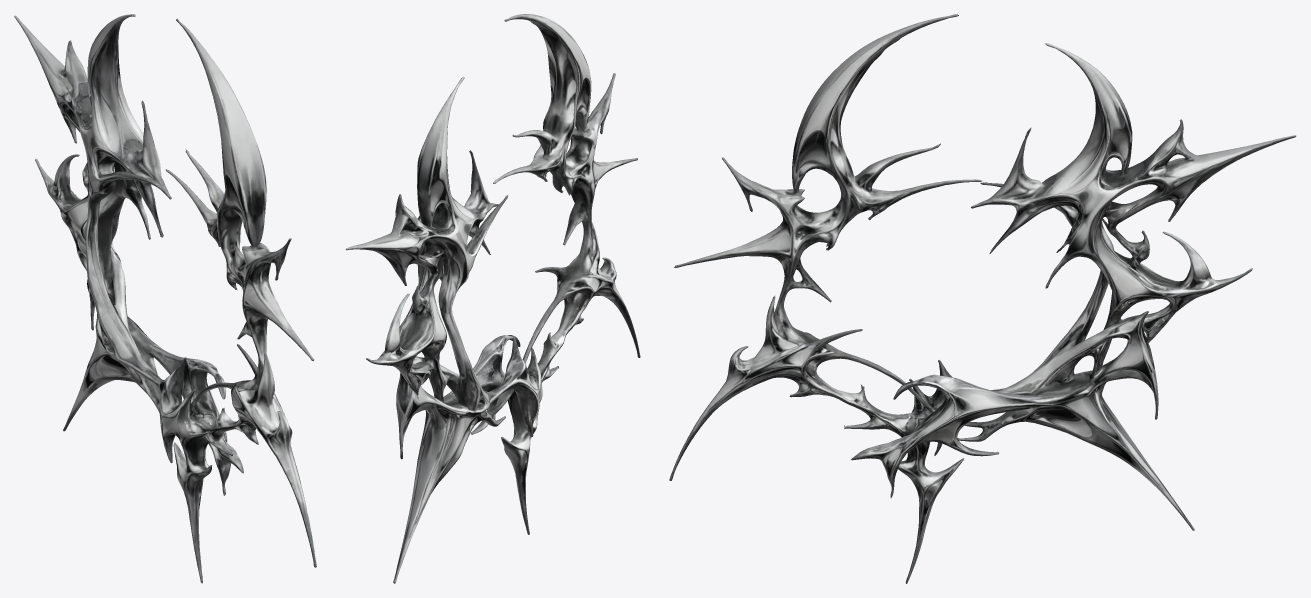
The model's file is hero-sigil.glb.
3 renders of one model, left to right at view 1: azimuth 30°, elevation 25°; view 2: azimuth 150°, elevation 25°; view 3: azimuth 270°, elevation 25°, orthographic. The views are drawn at different scales.
Parts seen in each view (by area): view 1: tripo_node_61169f99-24d7-470d-8869-7e988d8b8f6d; view 2: tripo_node_61169f99-24d7-470d-8869-7e988d8b8f6d; view 3: tripo_node_61169f99-24d7-470d-8869-7e988d8b8f6d.
Boxes of the visible parts, x1,y1,x2,y2 form: tripo_node_61169f99-24d7-470d-8869-7e988d8b8f6d: [14, 14, 316, 583]; tripo_node_61169f99-24d7-470d-8869-7e988d8b8f6d: [345, 14, 640, 583]; tripo_node_61169f99-24d7-470d-8869-7e988d8b8f6d: [669, 14, 1296, 583].
Bounding box in the file's own units: 0.1028 × 0.9798 × 0.9775.
1 material, 1 textured.
